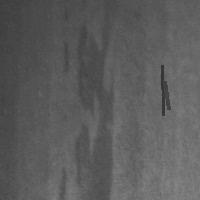inclusion: (71, 25, 115, 198), (160, 63, 165, 117), (162, 79, 170, 111)
